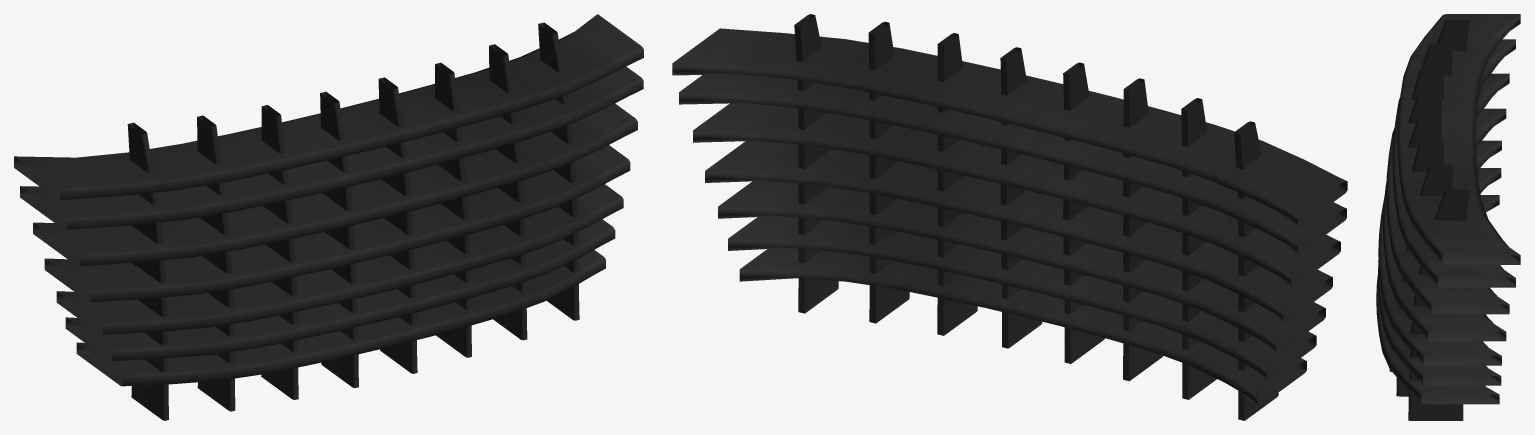
Rendered from grill.obj.
The picture shows the model from 3 angles, left to right: view 1: azimuth 30°, elevation 25°; view 2: azimuth 150°, elevation 25°; view 3: azimuth 270°, elevation 25°; orthographic projection. The views are drawn at different scales.
Visible parts, largest first — view 1: grill; view 2: grill; view 3: grill.
Boxes of the visible parts, x1,y1,x2,y2 form: grill: (14,14,643,420); grill: (672,14,1347,420); grill: (1376,14,1520,420).
Size of the model in its own units: 75.89 by 33.62 by 19.22.
1 material, 1 textured.
